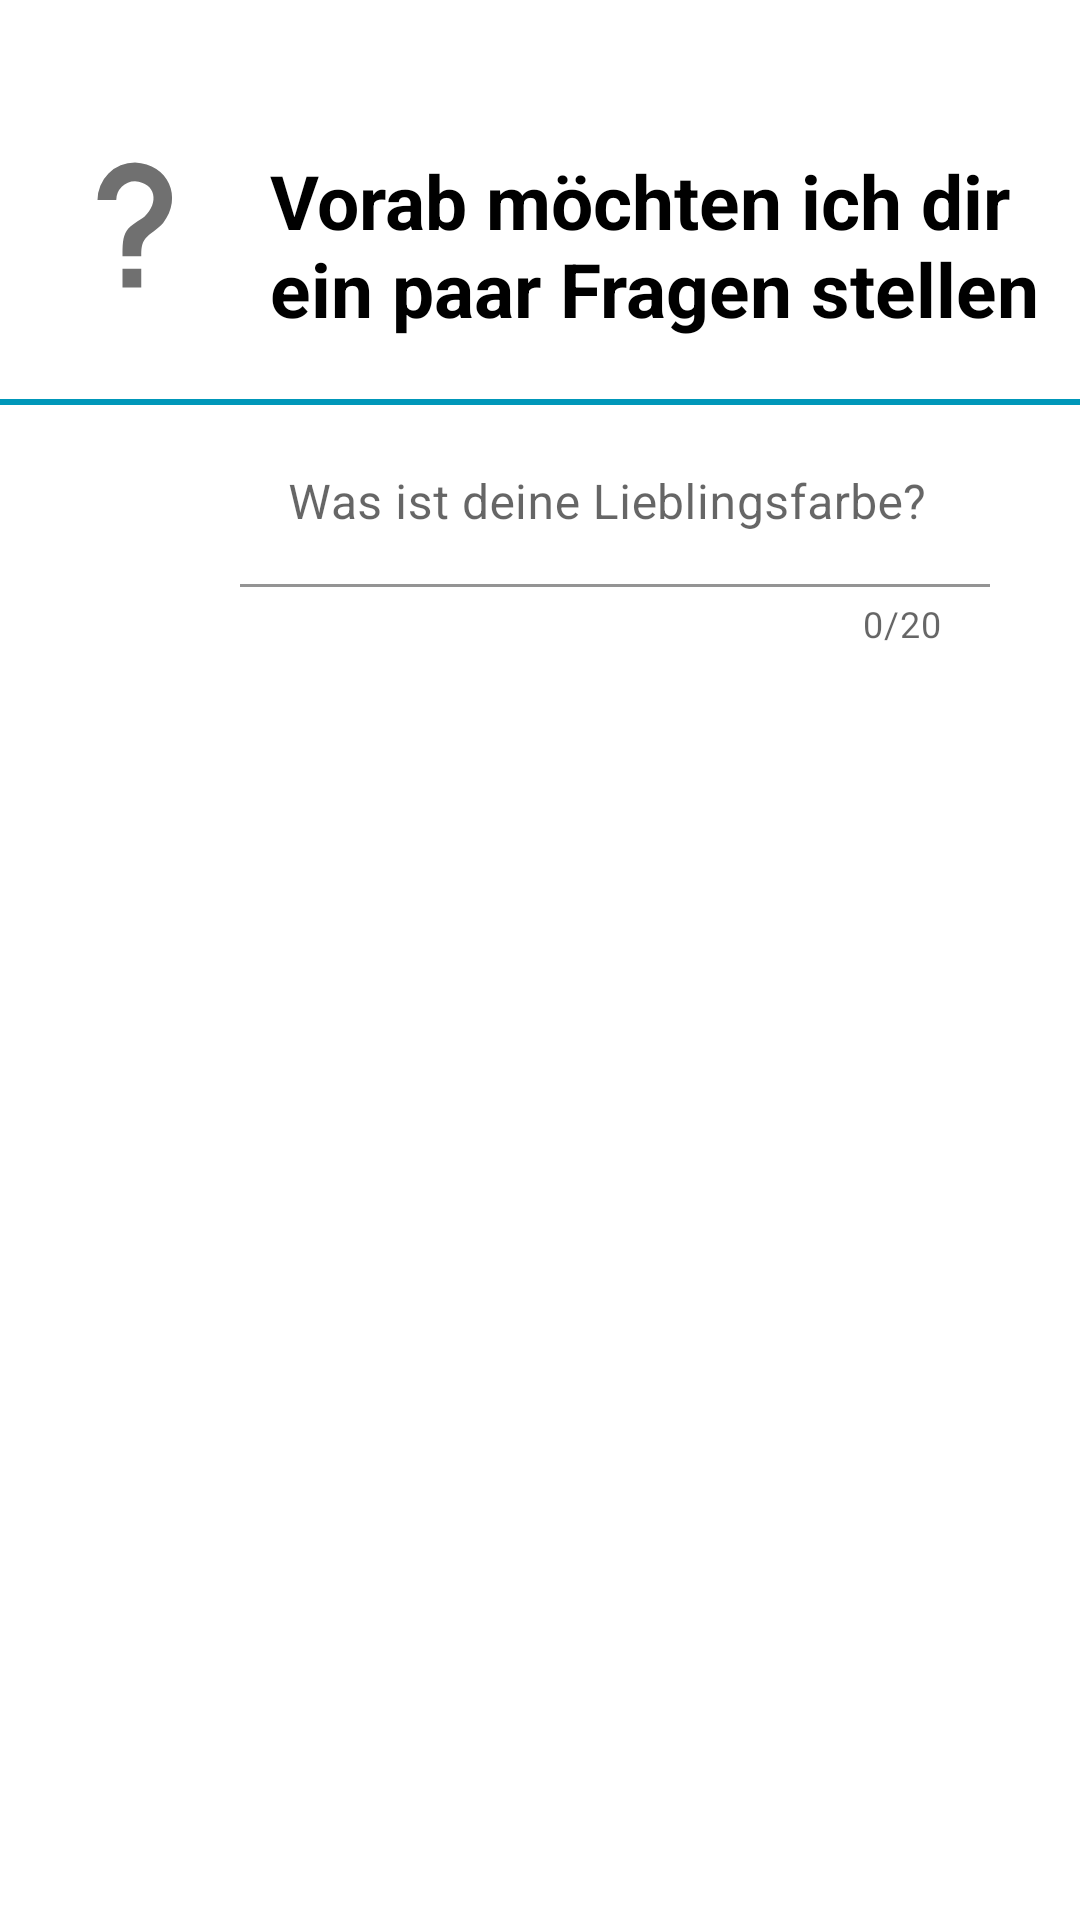

Where to tap for icons on this 1080px×1920px app screen, as [x,y]:
help: [134,225]
